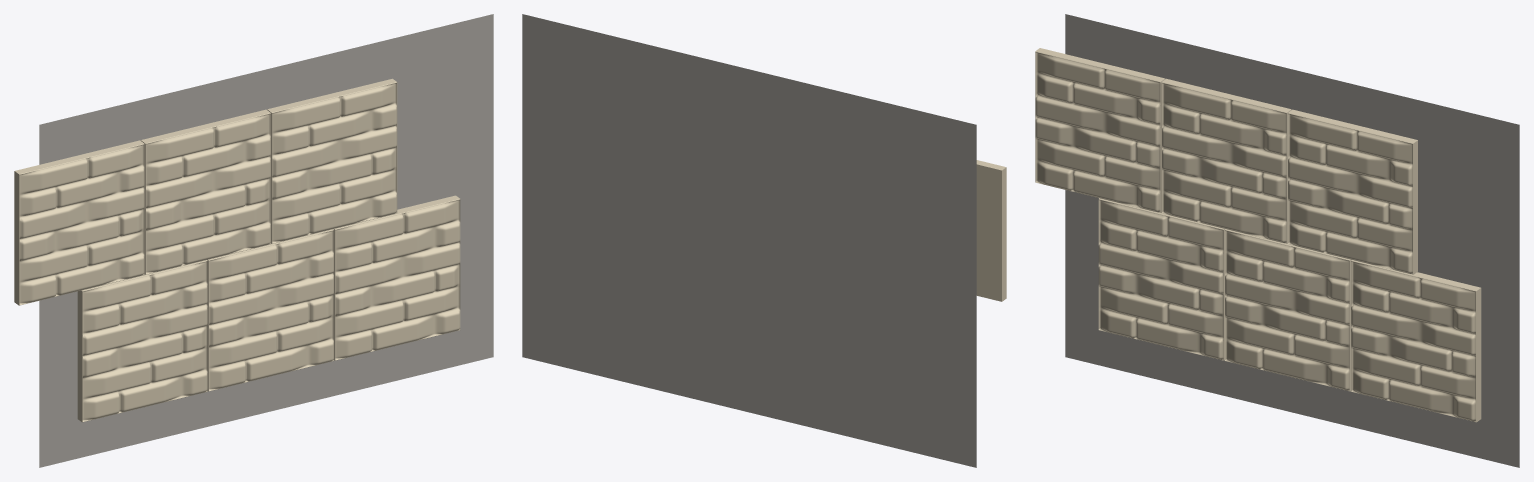
Rendered from terilgan.glb.
3 views of the same model, side by side, from view 1: azimuth 30°, elevation 25°; view 2: azimuth 150°, elevation 25°; view 3: azimuth 330°, elevation 25° (orthographic).
Visible parts, largest first — view 1: Plane, t1_0, t0_0, t1_1, t1_2, t0_2, t0_1; view 2: Plane, t1_0; view 3: Plane, t1_2, t0_2, t1_1, t1_0, t0_0, t0_1.
Boxes of the visible parts, x1,y1,x2,y2 form: Plane: (39,14,493,467); t1_0: (14,140,144,305); t0_0: (77,260,207,422); t1_1: (140,109,270,274); t1_2: (267,78,397,243); t0_2: (333,195,460,360); t0_1: (207,229,333,391); Plane: (522,14,976,467); t1_0: (976,160,1006,301); Plane: (1065,14,1519,467); t1_2: (1288,109,1417,274); t0_2: (1351,260,1481,422); t1_1: (1161,78,1291,243); t1_0: (1035,48,1165,212); t0_0: (1098,198,1224,360); t0_1: (1225,229,1351,391).
Bounding box in the file's own units: 1.91 × 1.31 × 0.047.
